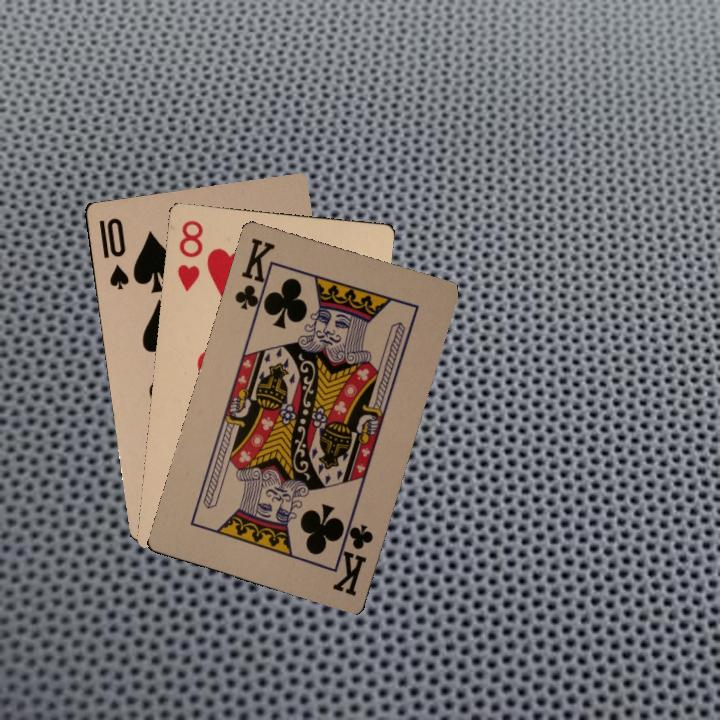10s: (95, 213, 132, 292)
8h: (173, 216, 206, 293)
Kc: (230, 234, 278, 320), (328, 514, 376, 599)
